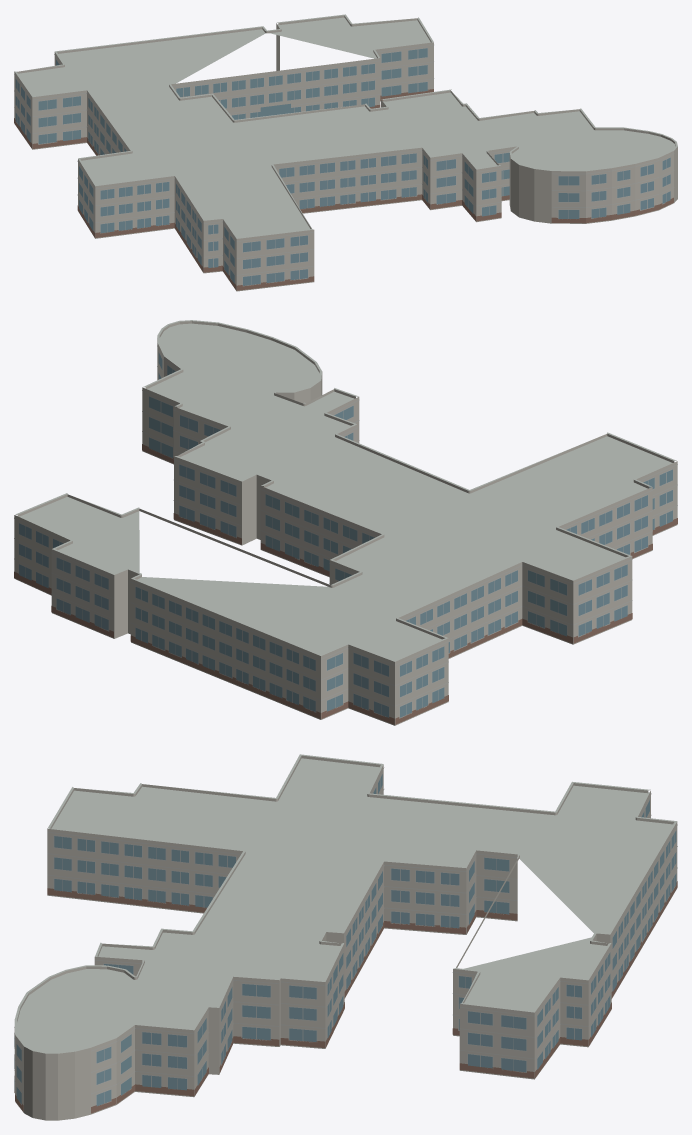
File: public-dce29012-e9e8-4844-acba-ba7bfdbecf52.glb
The picture shows the model from 3 angles, top to bottom: view 1: azimuth 30°, elevation 25°; view 2: azimuth 150°, elevation 25°; view 3: azimuth 270°, elevation 25°; orthographic projection. The views are drawn at different scales.
Visible parts, largest first — view 1: public-dce29012-e9e8-4844-acba-ba7bfdbecf52; view 2: public-dce29012-e9e8-4844-acba-ba7bfdbecf52; view 3: public-dce29012-e9e8-4844-acba-ba7bfdbecf52.
Boxes of the visible parts, x1,y1,x2,y2 form: public-dce29012-e9e8-4844-acba-ba7bfdbecf52: [14, 14, 677, 291]; public-dce29012-e9e8-4844-acba-ba7bfdbecf52: [14, 320, 677, 725]; public-dce29012-e9e8-4844-acba-ba7bfdbecf52: [14, 754, 677, 1120].
Size of the model in its own units: 87.81 by 9.15 by 82.24.
